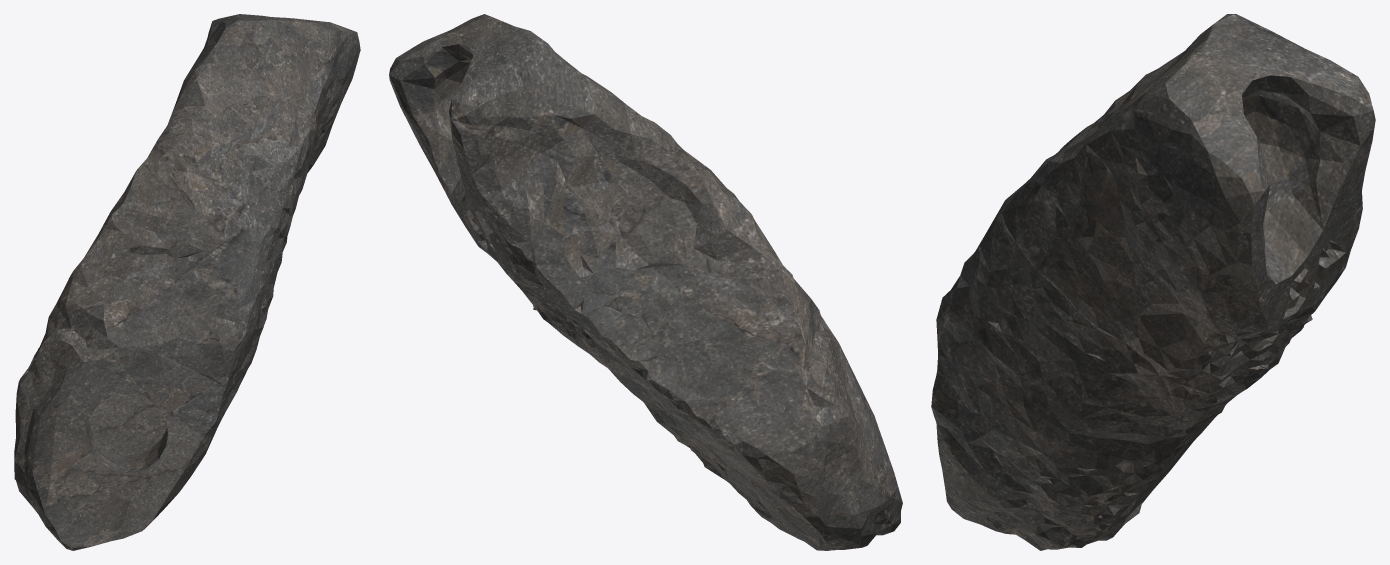
The model's file is rocky_brazo_derecho.obj.
3 views of the same model, side by side, from view 1: azimuth 30°, elevation 25°; view 2: azimuth 150°, elevation 25°; view 3: azimuth 270°, elevation 25° (orthographic). The views are drawn at different scales.
Size of the model in its own units: 0.2664 by 0.2835 by 0.1676.
1 material, 1 textured.
